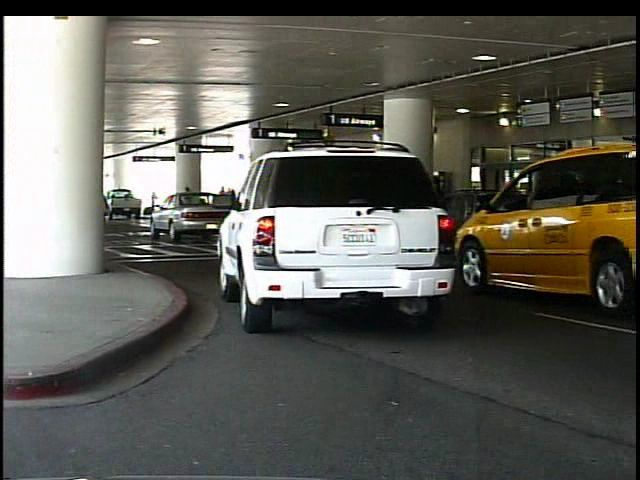person: (541, 173, 570, 260), (153, 187, 161, 214)
